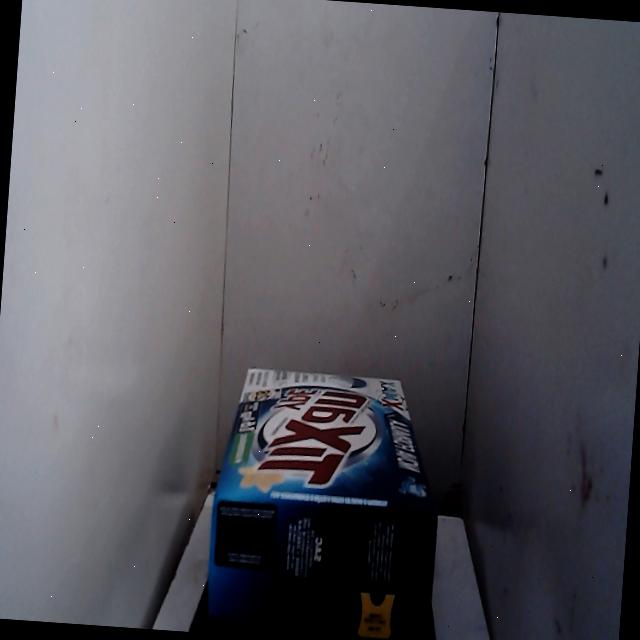paper: (191, 342, 461, 640)
